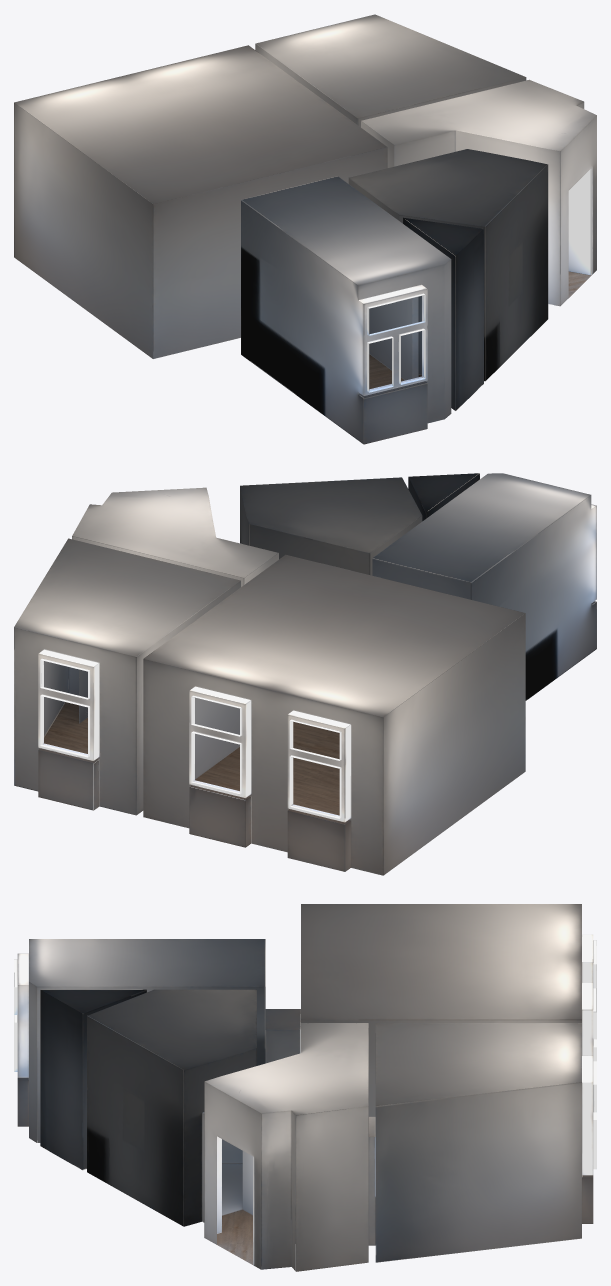
Rendered from room_example_6.glb.
3 renders of one model, top to bottom at view 1: azimuth 30°, elevation 25°; view 2: azimuth 150°, elevation 25°; view 3: azimuth 270°, elevation 25°, orthographic. The views are drawn at different scales.
Visible parts, largest first — view 1: wohnung.002; view 2: wohnung.002; view 3: wohnung.002.
Part boxes in pixels (box(x1,y1,x2,y2)): wohnung.002: box(14, 14, 596, 444); wohnung.002: box(14, 473, 596, 875); wohnung.002: box(14, 904, 596, 1271).
Size of the model in its own units: 8.34 by 2.88 by 9.72.
Materials: 1 (1 with a texture image).
